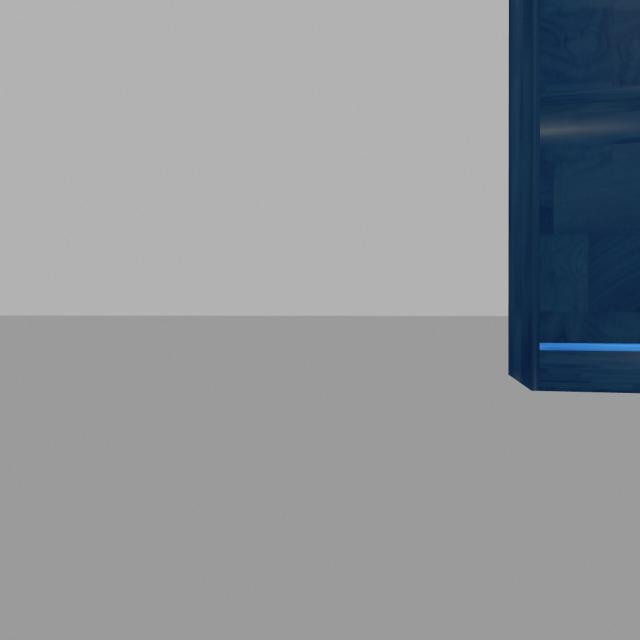shelf: (494, 1, 640, 416)
